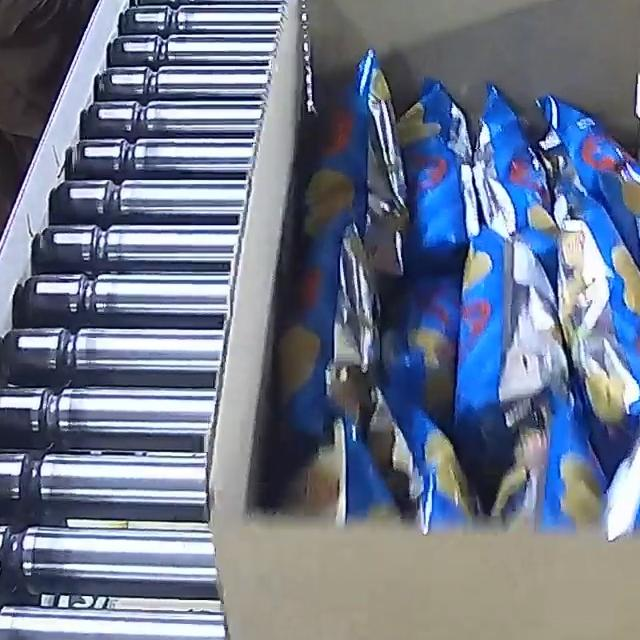paprika: (261, 44, 640, 539)
